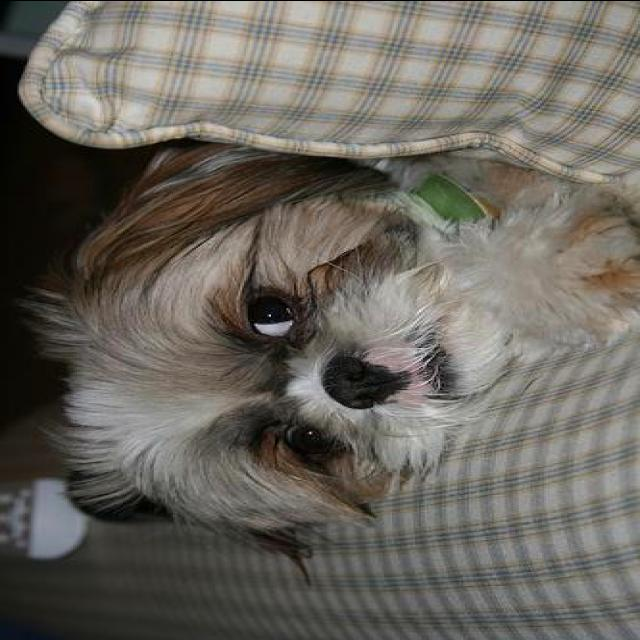shih_tzu: (14, 142, 638, 588)
